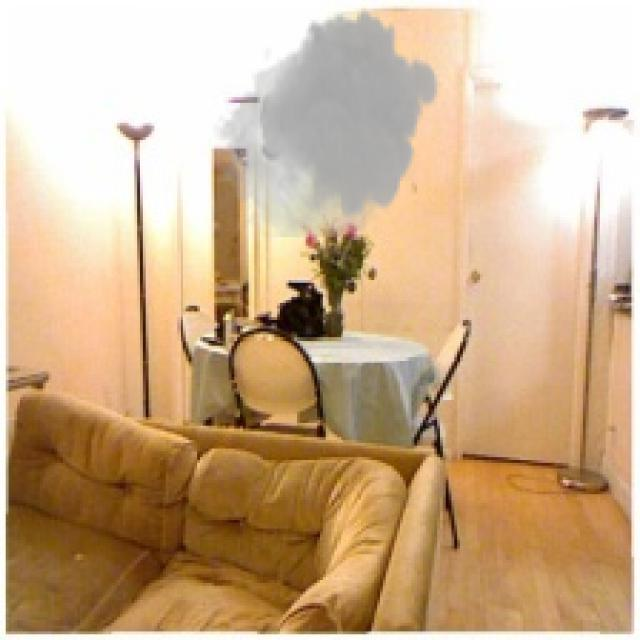smoke: (211, 6, 440, 237)
